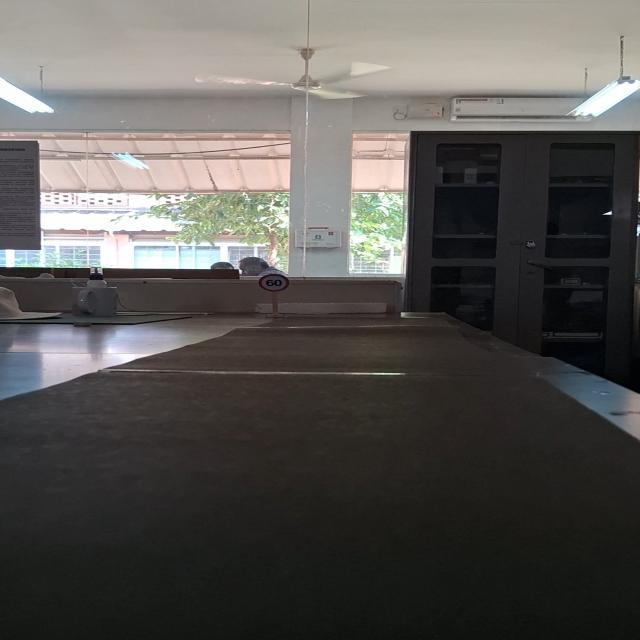Speed60: (258, 274, 290, 292)
